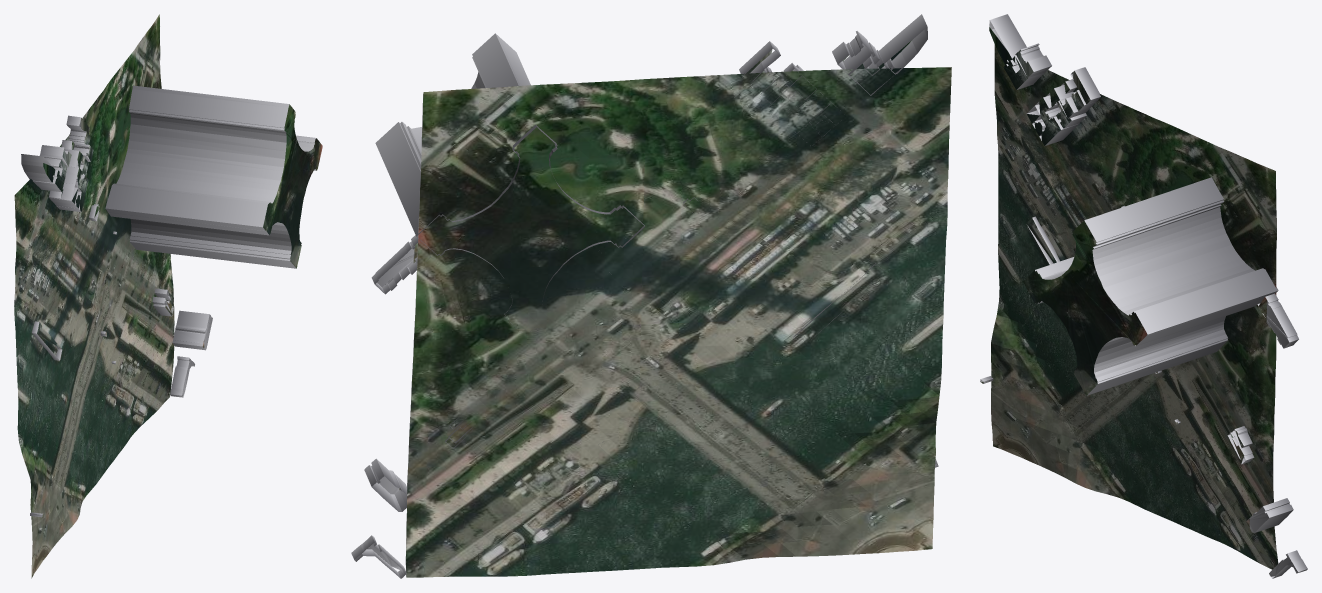
The picture shows the model from 3 angles, left to right: view 1: azimuth 30°, elevation 25°; view 2: azimuth 150°, elevation 25°; view 3: azimuth 270°, elevation 25°; orthographic projection. The views are drawn at different scales.
Bounding box in the file's own units: 417 × 438 × 302.
Materials: 1 (1 with a texture image).
